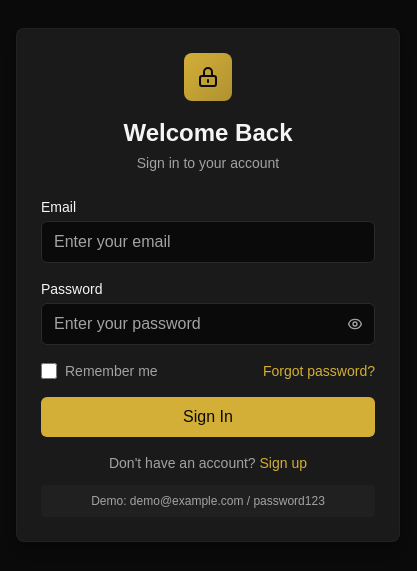
Test: LoginPage › validates password field
Add valid email
Type "test@example.com" into the field labelled "Email".
click(208, 242); type("test@example.com")  # box [41,221,375,263]
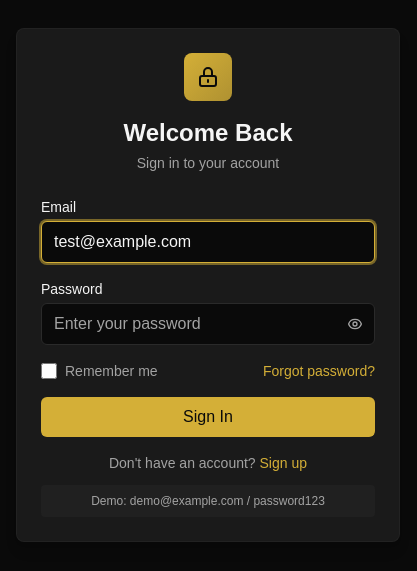
Submit with empty password
Click the button "Sign In".
click(208, 417)  # box [41,397,375,437]
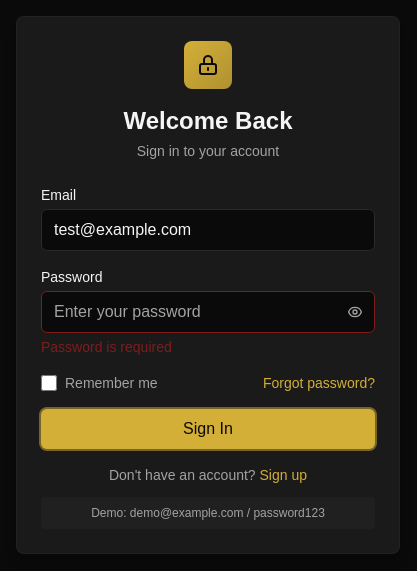
Check: the text "Password is required" is shown, box [41,339,172,355]
Submit with short password
Type "12345" into the password field labelled "Password".
click(208, 312); type("12345")  # box [41,291,375,333]
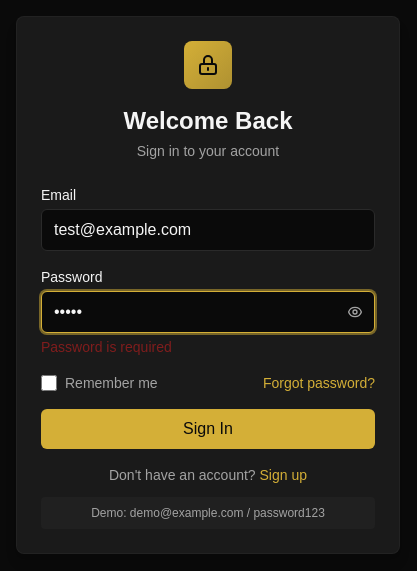
Click the button "Sign In".
click(208, 429)  # box [41,409,375,449]
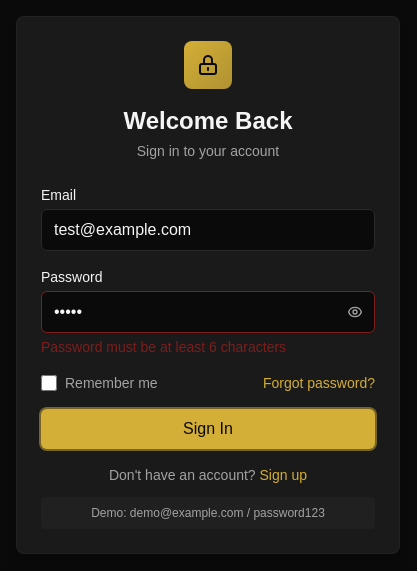
Check: the text "Password must be at least 6 characters" is shown, box [41,339,286,355]
